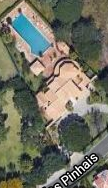pool: (13, 19, 48, 52)
